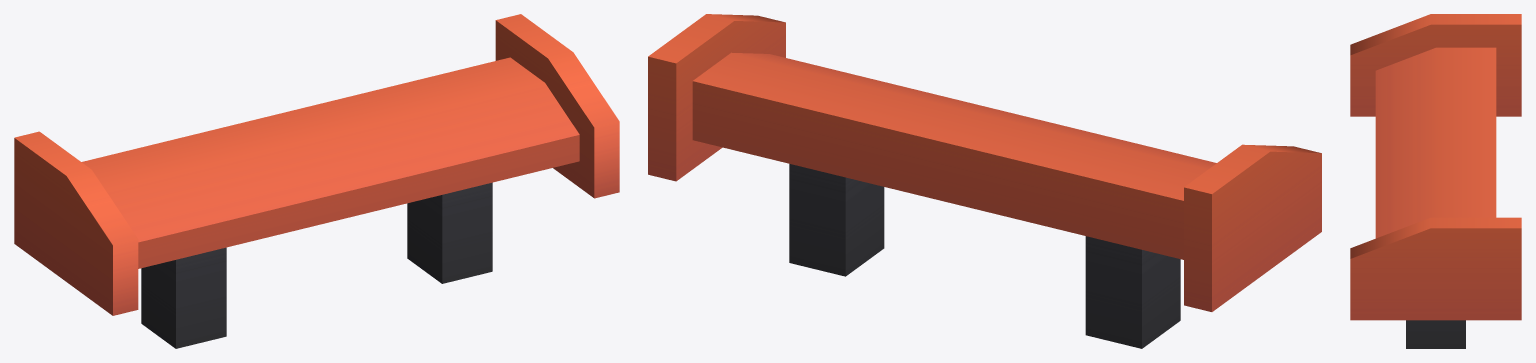
3 renders of one model, left to right at view 1: azimuth 30°, elevation 25°; view 2: azimuth 150°, elevation 25°; view 3: azimuth 270°, elevation 25°, orthographic. The views are drawn at different scales.
Parts seen in each view (by area): view 1: debris-spoiler-b; view 2: debris-spoiler-b; view 3: debris-spoiler-b.
Part boxes in pixels (x1,y1,x2,y2): debris-spoiler-b: [14, 14, 619, 348]; debris-spoiler-b: [648, 14, 1321, 348]; debris-spoiler-b: [1350, 14, 1521, 348].
Bounding box in the file's own units: 1 × 0.35 × 0.3374.
1 material, 1 textured.
